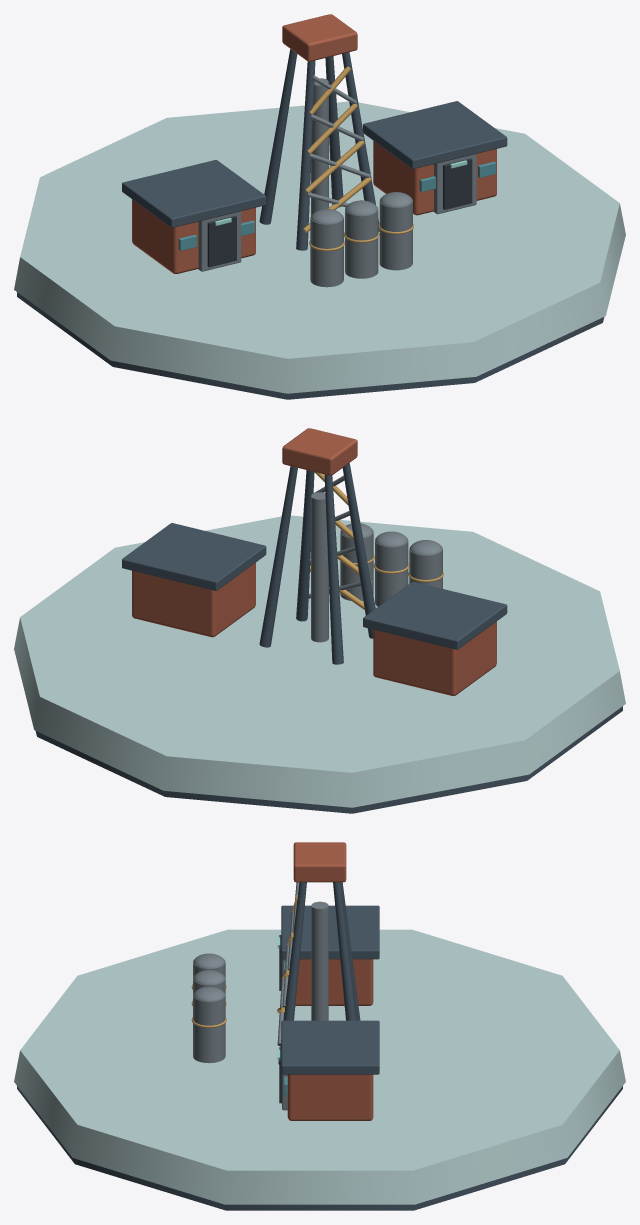
File: frostline.glb
3 views of the same model, one above another, from view 1: azimuth 30°, elevation 25°; view 2: azimuth 150°, elevation 25°; view 3: azimuth 270°, elevation 25° (orthographic). The views are drawn at different scales.
Visible parts, largest first — view 1: Terrain cutaway, Roof slab (×2), Habitat pressure shell (×2), Storage vessel (×3), Derrick leg (×4), Substrate, Sealed door (×2), Hoist hood, Airlock surround (×2), Core barrel; view 2: Terrain cutaway, Roof slab (×2), Habitat pressure shell (×2), Derrick leg (×4), Storage vessel (×3), Substrate, Hoist hood, Core barrel; view 3: Terrain cutaway, Roof slab (×2), Habitat pressure shell (×2), Substrate, Derrick leg (×2), Hoist hood, Core barrel, Storage vessel.
Part boxes in pixels (x1,y1,x2,y2): Terrain cutaway: [14, 101, 625, 393]; Roof slab (×2): [122, 101, 507, 227]; Habitat pressure shell (×2): [132, 141, 496, 273]; Storage vessel (×3): [310, 197, 412, 287]; Derrick leg (×4): [259, 49, 379, 250]; Substrate: [17, 292, 604, 399]; Sealed door (×2): [207, 158, 472, 267]; Hoist hood: [282, 14, 357, 61]; Airlock surround (×2): [198, 154, 476, 271]; Core barrel: [311, 78, 328, 215]; Terrain cutaway: [14, 515, 625, 807]; Roof slab (×2): [122, 523, 507, 649]; Habitat pressure shell (×2): [132, 562, 496, 695]; Derrick leg (×4): [259, 463, 375, 664]; Storage vessel (×3): [340, 529, 442, 606]; Substrate: [35, 706, 622, 813]; Hoist hood: [282, 428, 357, 475]; Core barrel: [311, 492, 328, 642]; Terrain cutaway: [14, 929, 625, 1204]; Roof slab (×2): [281, 905, 379, 1074]; Habitat pressure shell (×2): [287, 959, 373, 1120]; Substrate: [17, 1086, 622, 1210]; Derrick leg (×2): [278, 882, 356, 1064]; Hoist hood: [293, 842, 346, 882]; Core barrel: [311, 901, 328, 1020]; Storage vessel: [193, 992, 225, 1063].
Bounding box in the file's own units: 5.52 × 2.47 × 5.8.
